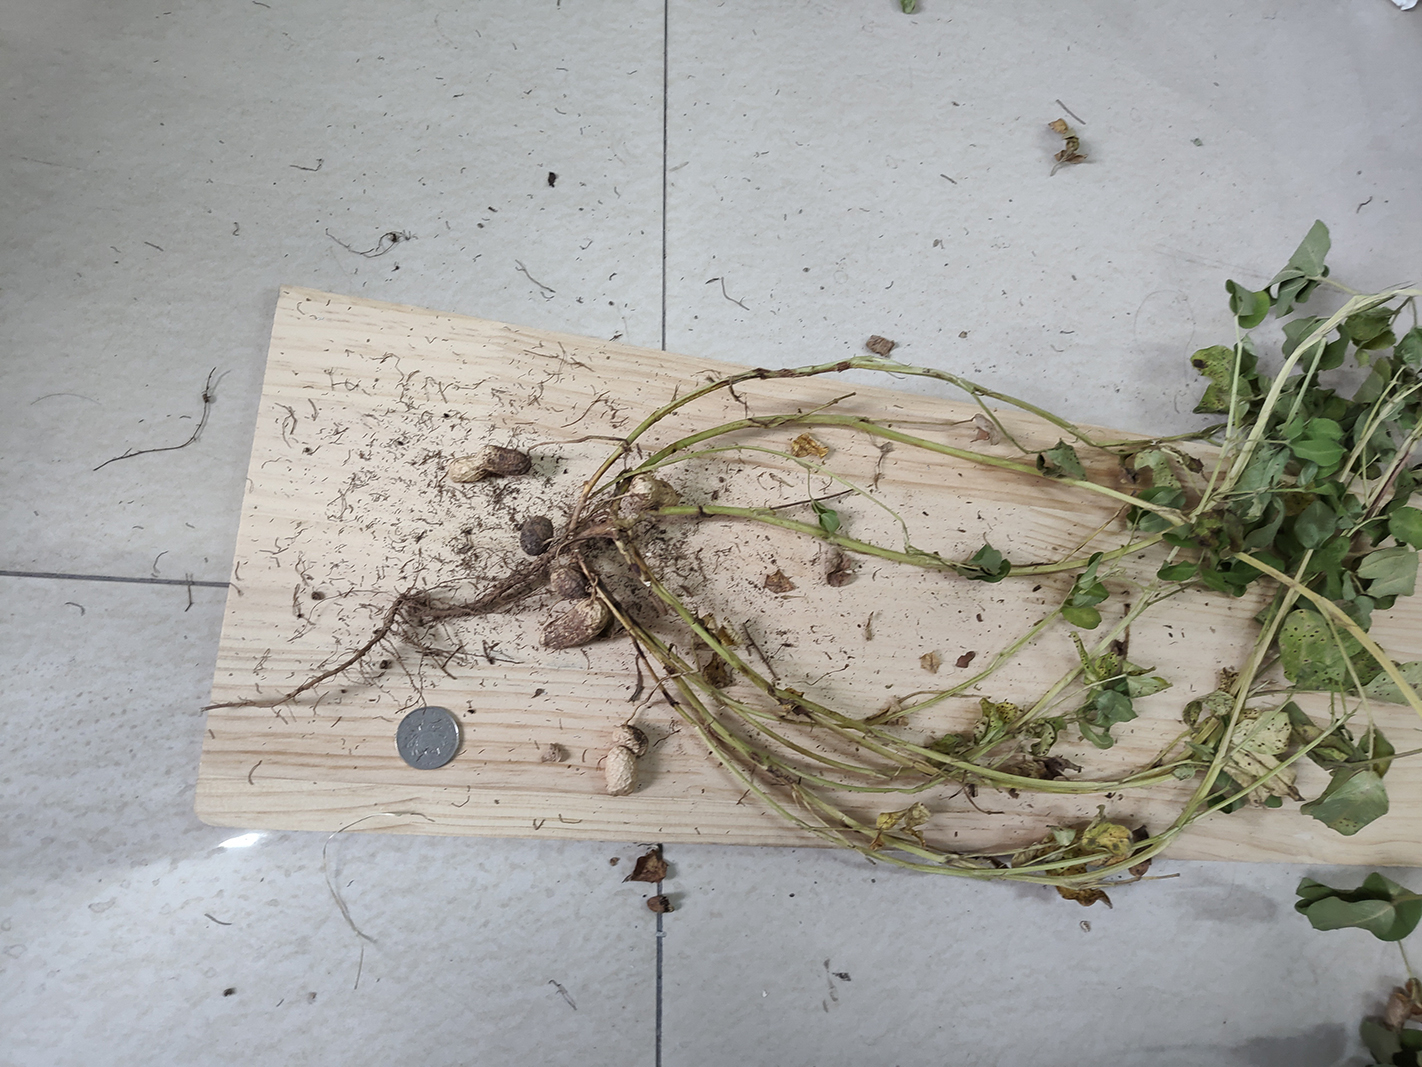h: (603, 726, 650, 794), (629, 476, 682, 507)
l: (541, 596, 608, 652), (450, 443, 531, 482), (521, 514, 554, 556), (552, 569, 586, 597)
